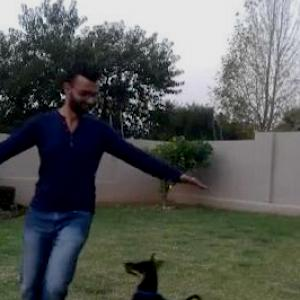land: (0, 69, 175, 299)
